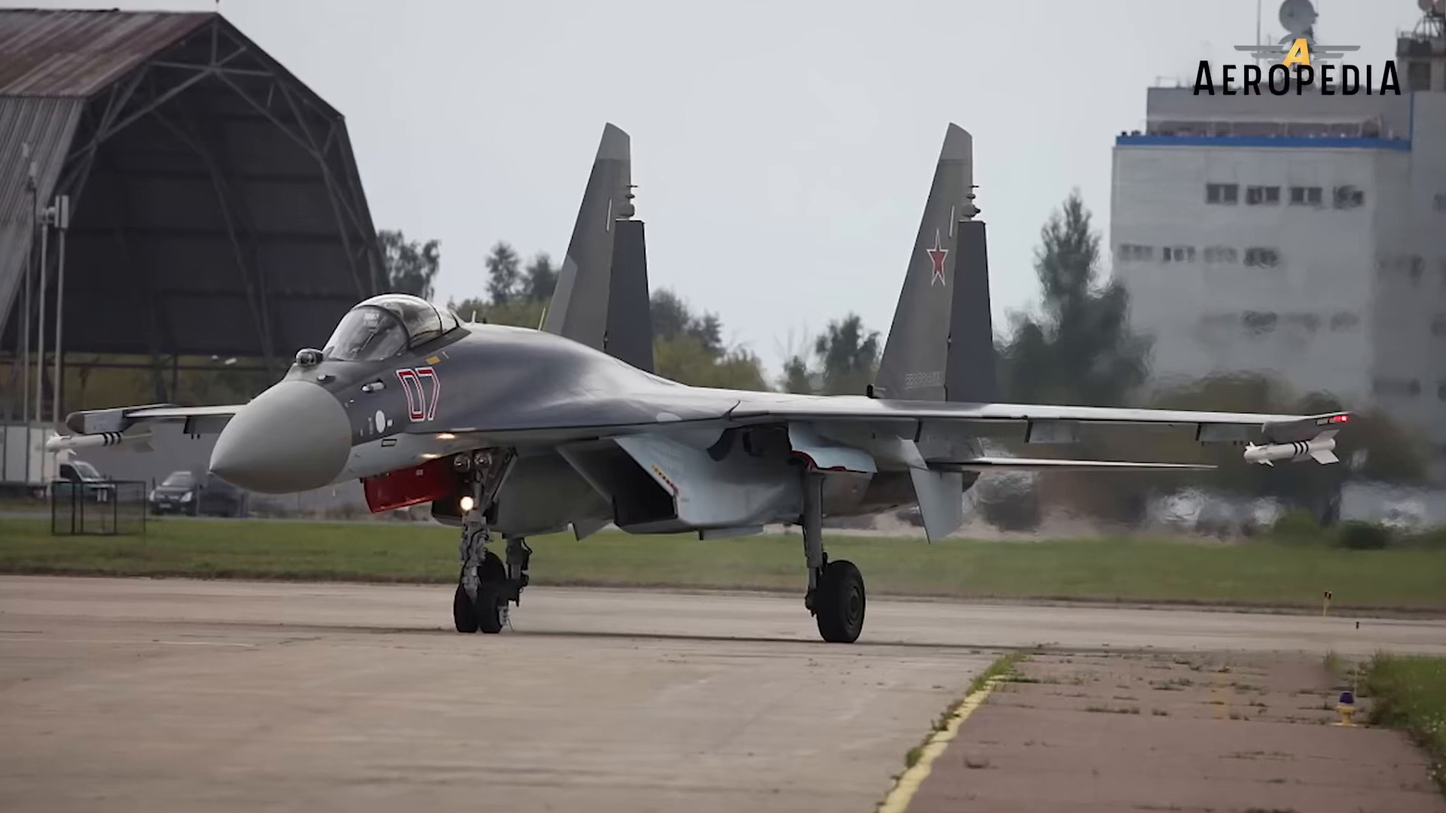Su35: (52, 122, 1353, 641)
